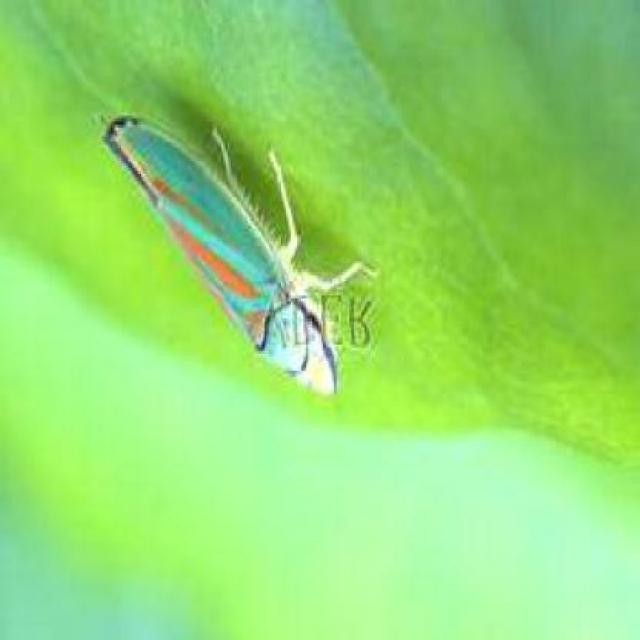green-leafhopper: (98, 111, 357, 397)
